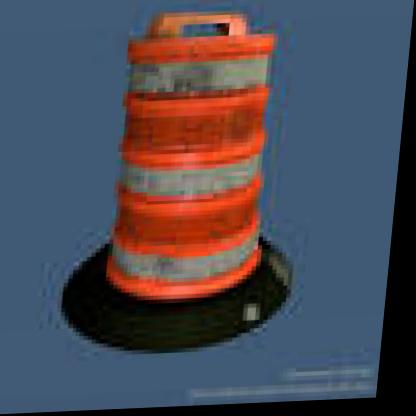obstacle: (101, 14, 306, 316)
